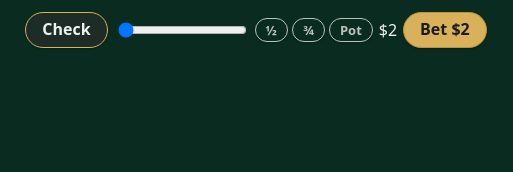
Test case: ActionBar › a genuine ½-pot value still highlights ½ alone (iter-24 NIT 1 — real matches still work)
Step 1. Click the button named "Size to half pot" → (271, 30), box [255,18,288,42]
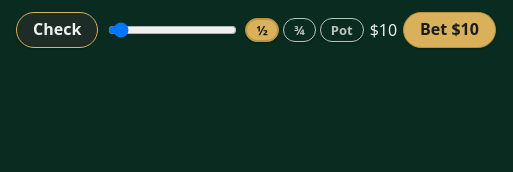
Expected: the text with test id "bet-size" reads "$10", [370,19,397,41]
